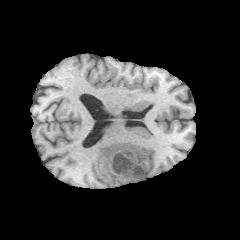glioma: (96, 142, 147, 184)
